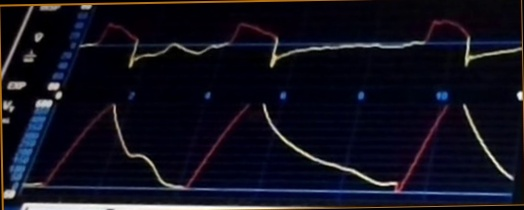Ineffective_effort Flow: (79, 15, 524, 79)
Ineffective_effort Volume: (33, 103, 513, 197)
